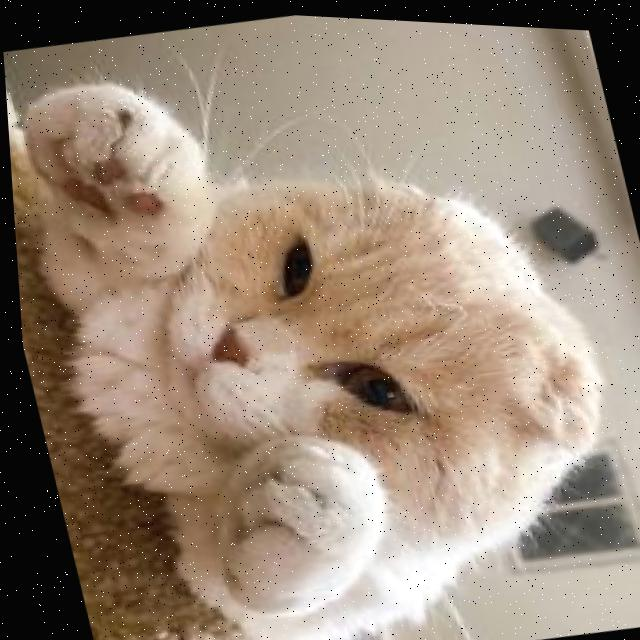Scottish Fold: (0, 1, 640, 640)
